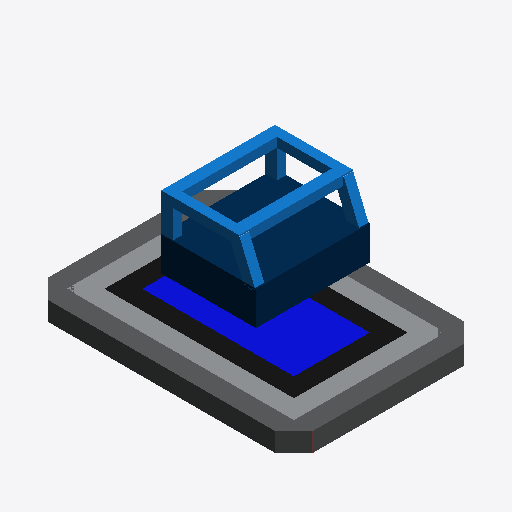
A Minecraft block model of 15 cuboids, rendered isometrically (azimuth 45°, elevation 35.3°) with the resource pack's own textures.
Visible parts, largest first — element 10, element 11, element 1, element 5, element 4, element 9, element 8, element 6, element 13, element 7, element 2, element 3.
Part boxes in pixels (x1,y1,x2,y2): element 10: (48,192,463,452); element 11: (48,235,463,452); element 1: (161,174,369,327); element 5: (238,169,342,238); element 4: (171,130,276,196); element 9: (173,192,247,240); element 8: (277,131,352,175); element 6: (229,231,263,289); element 13: (275,420,311,452); element 7: (337,171,367,227); element 2: (161,185,181,240); element 3: (265,125,285,179).
Bounding box in the file's own units: 10 × 7 × 14.